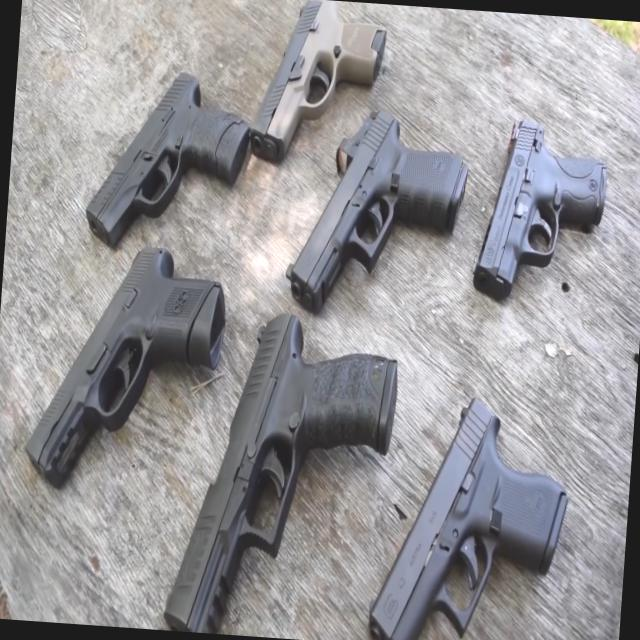handgun: (153, 283, 428, 639), (25, 212, 254, 508), (367, 366, 583, 639), (74, 65, 266, 286), (276, 110, 476, 314), (239, 0, 409, 200), (473, 106, 613, 312)
